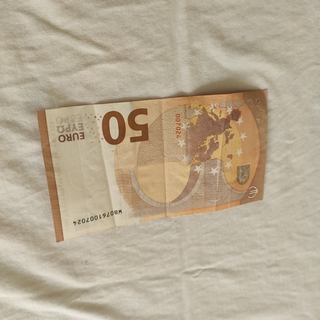50EUROBack: (35, 88, 268, 244)
